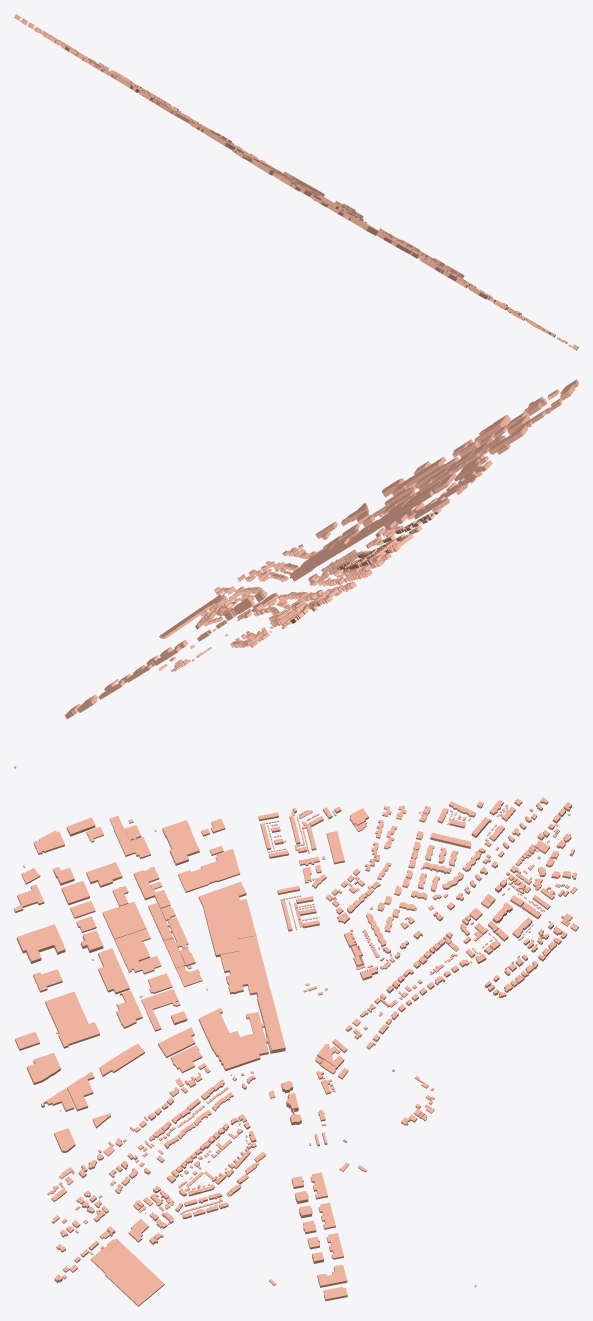
3 renders of one model, top to bottom at view 1: azimuth 30°, elevation 25°; view 2: azimuth 150°, elevation 25°; view 3: azimuth 270°, elevation 25°, orthographic. The views are drawn at different scales.
Bounding box in the file's own units: 1017 × 745 × 1220.
